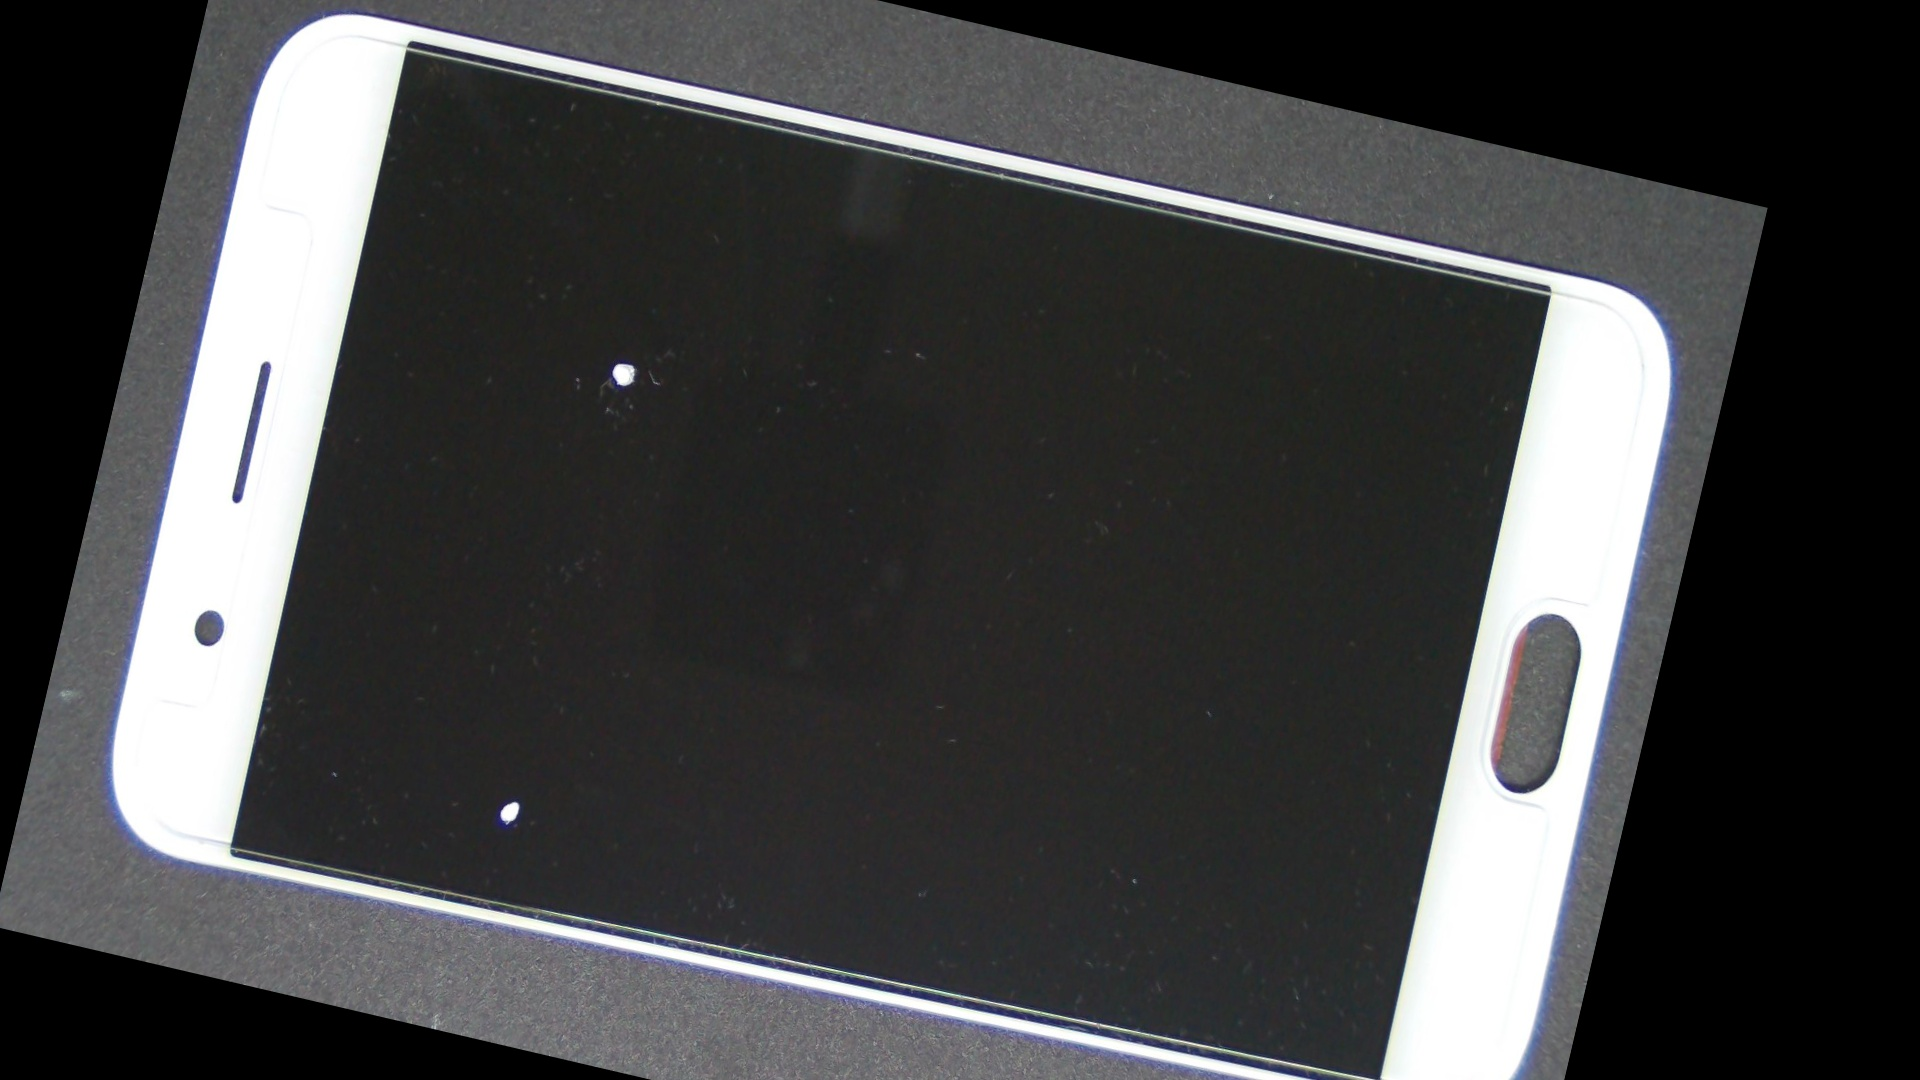oil: (228, 326, 851, 1080), (339, 105, 901, 616)
